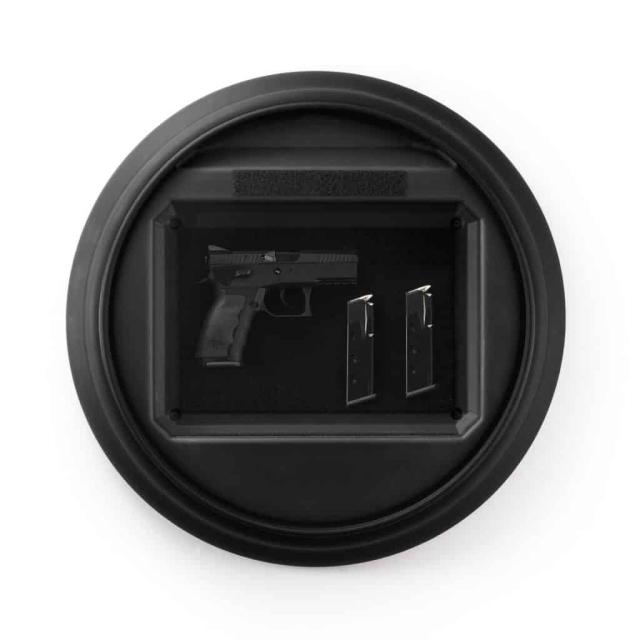HandGun: (201, 251, 358, 363)
